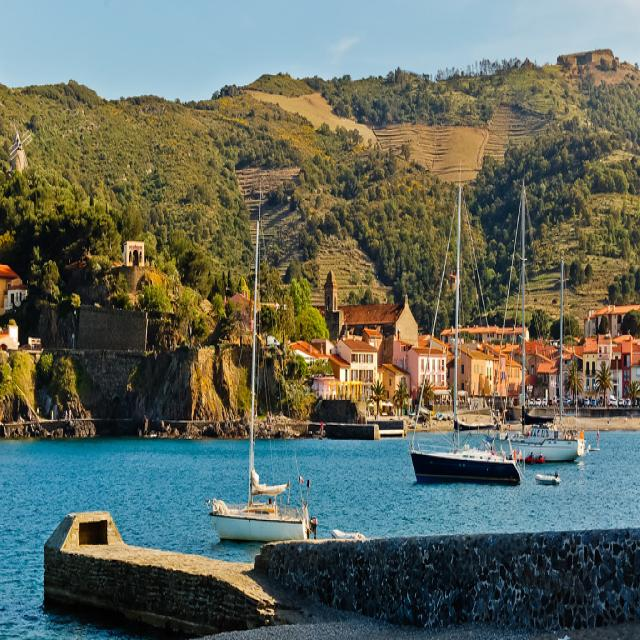Boat: (210, 176, 325, 540), (496, 185, 600, 458)
